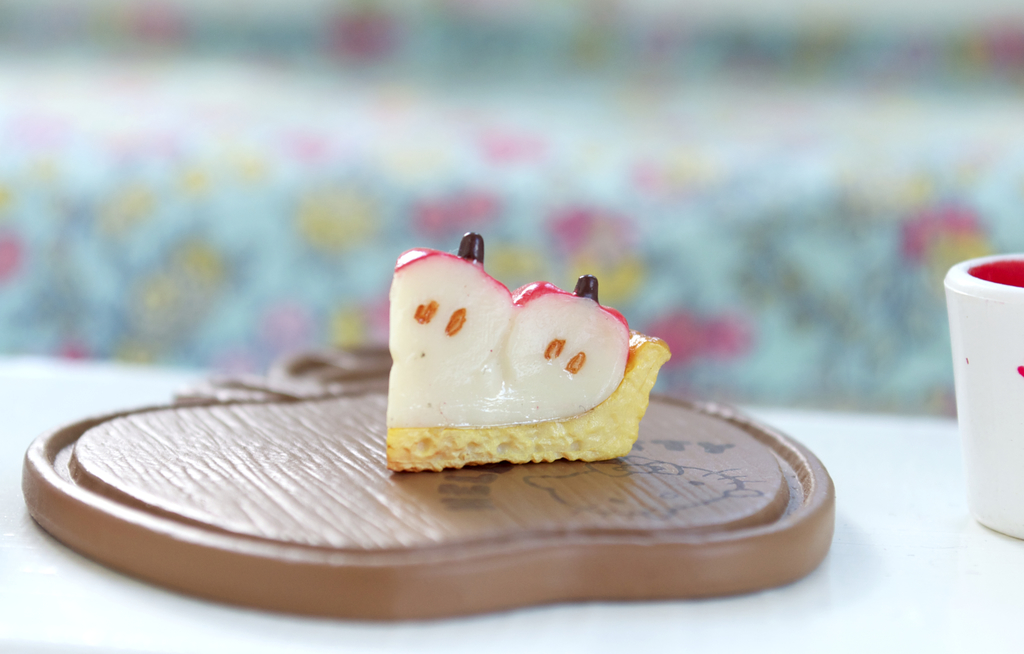cake: (383, 232, 670, 463)
